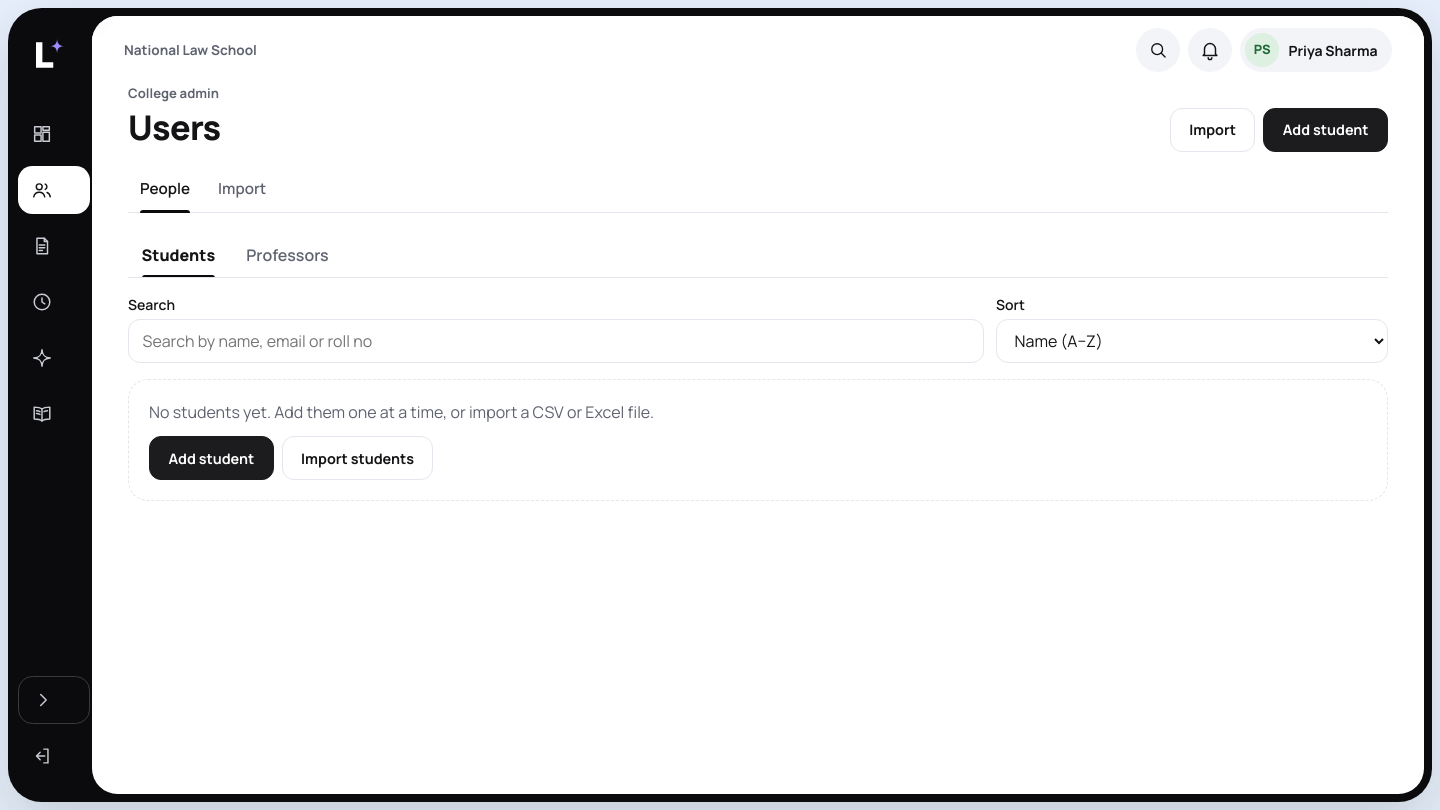
Test case: users list › maps a duplicate roll no and a solo email to their fields when adding a student
Click the button "Add student" in the row of "Users" at {"x": 1326, "y": 130}, box [1263,108,1388,152]
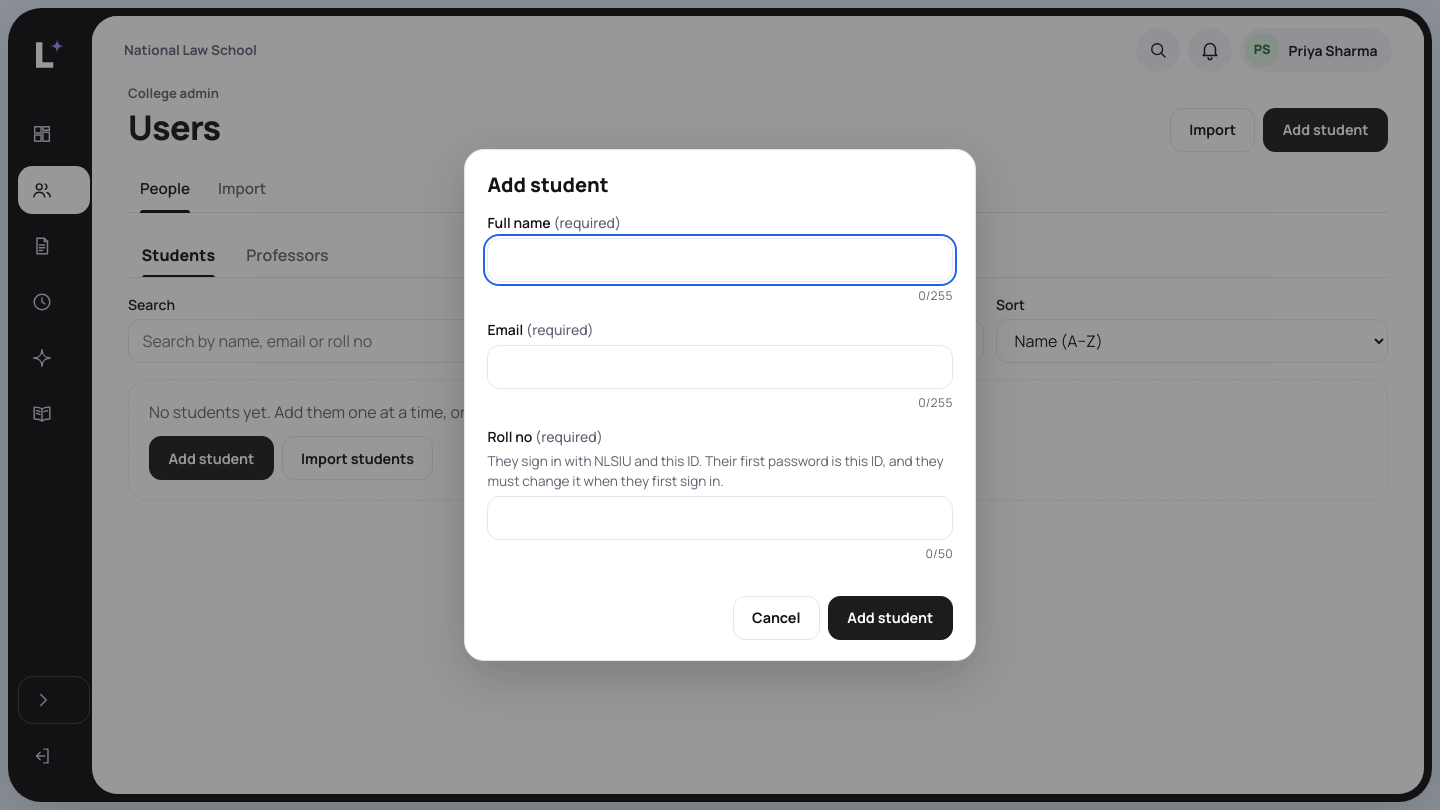
expect the text "They sign in with NLSIU and this ID" is shown: met, box [487,452,944,490]
Type "Asha Rao" into the field labelled "Full name (required)" at {"x": 720, "y": 260}, box [487,238,953,282]
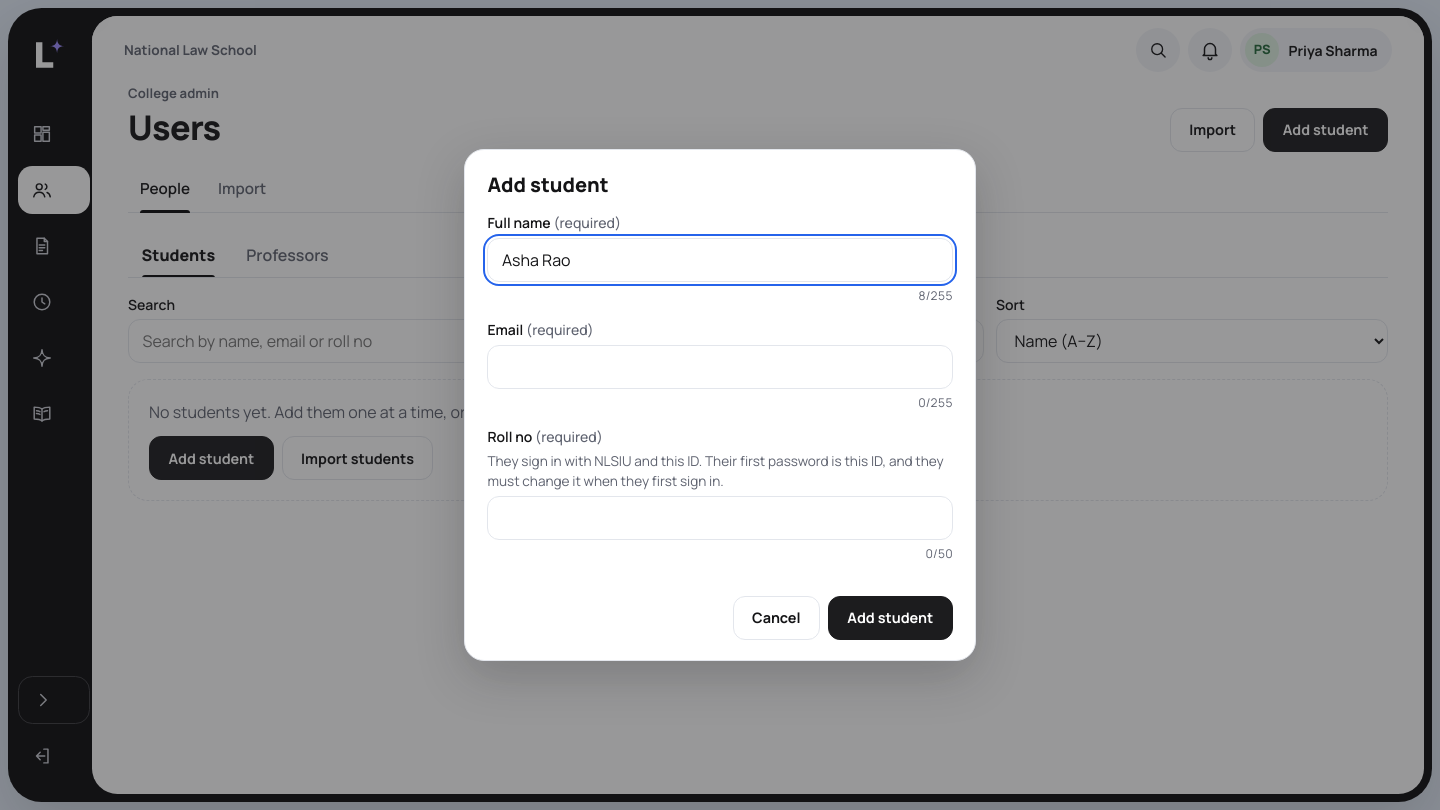
Type "asha@example.com" into the field labelled "Email (required)" at {"x": 720, "y": 367}, box [487,345,953,389]
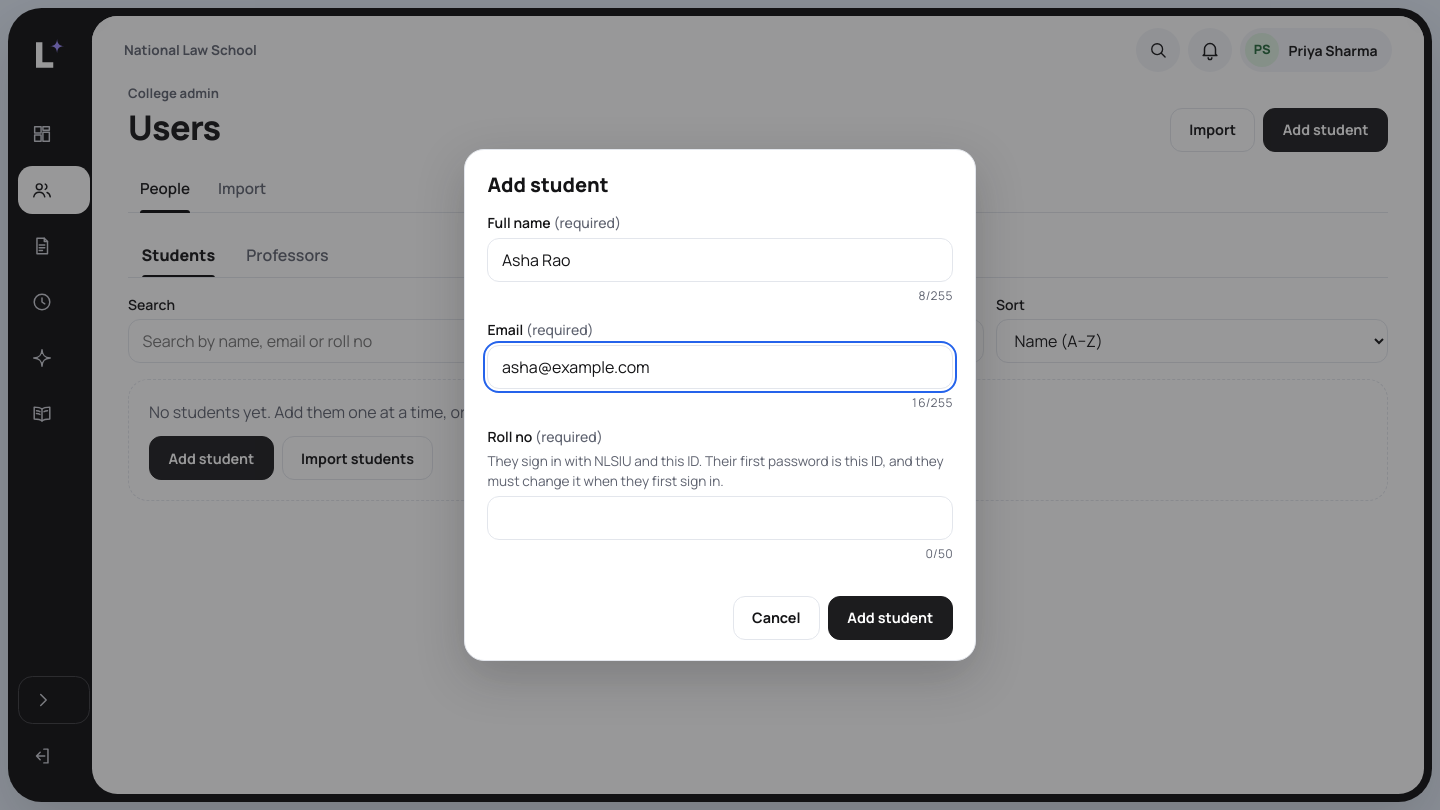
Type "R1" into the field labelled "Roll no (required)" at {"x": 720, "y": 518}, box [487,496,953,540]
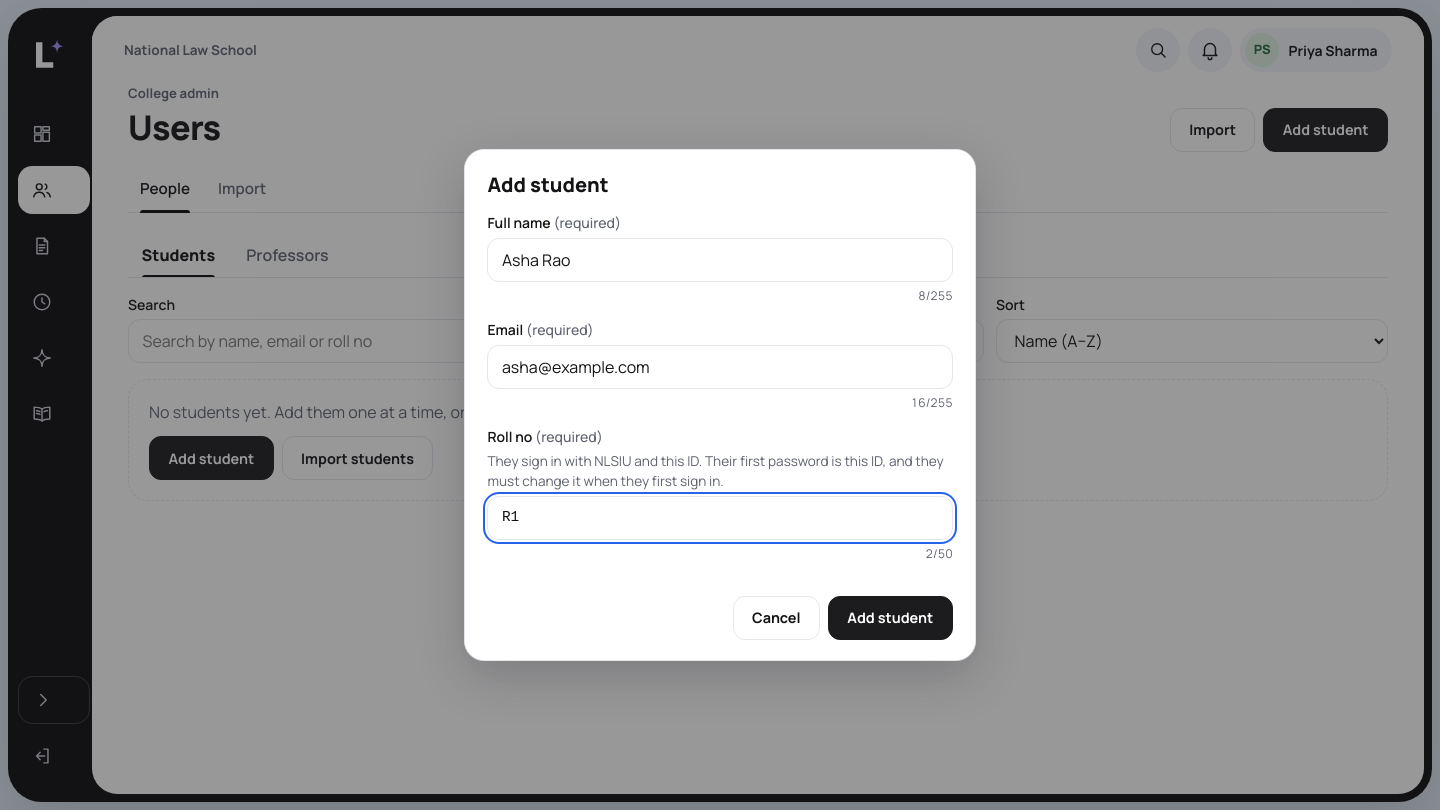
Click the button "Add student" at {"x": 890, "y": 618}, box [828,596,953,640]
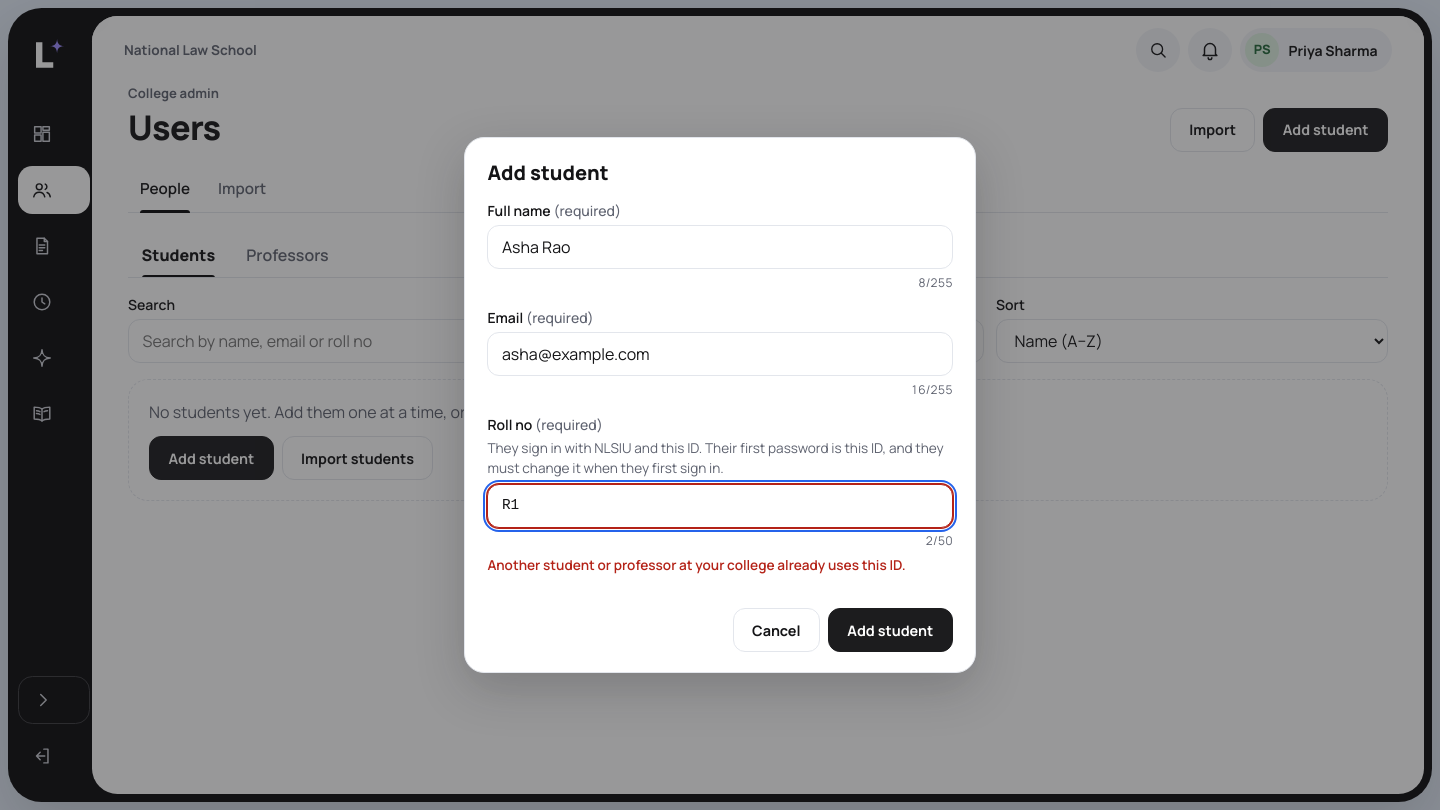
expect the text "Another student or professor at your college already uses this ID." is shown: met, box [487,555,953,576]
Click the button "Add student" at {"x": 890, "y": 630}, box [828,608,953,652]
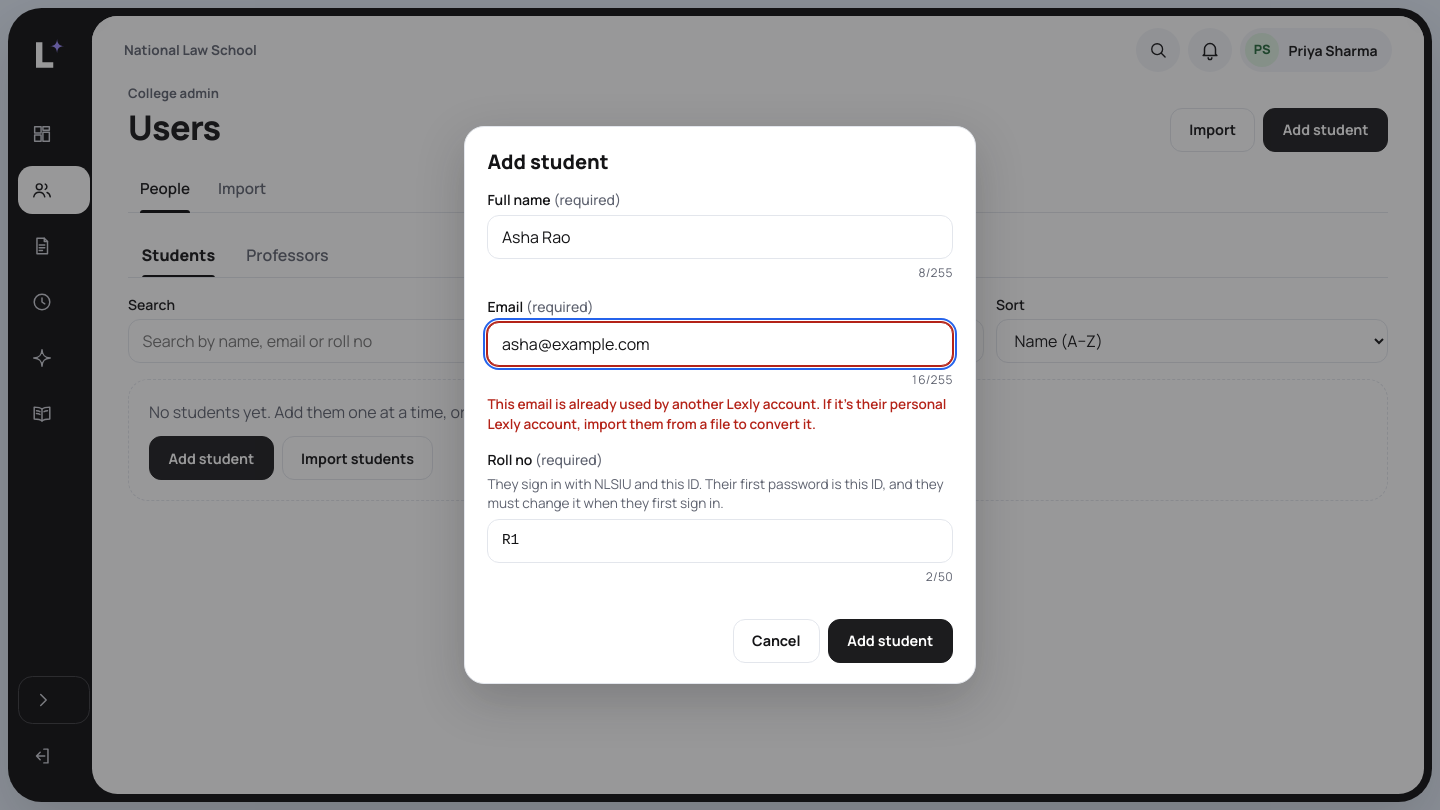
expect the text "This email is already used by another Lexly account. If it's their personal Lexly account, import them from a file to co" is shown: met, box [487,395,946,433]
